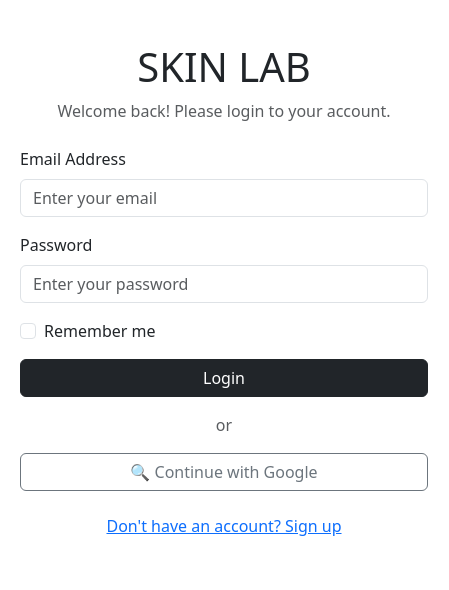
Test: LoginPage › shows an error message when login fails and does not navigate
The width and height of the screenshot is (449, 590).
Type "user@example.com" into the field with placeholder "Enter your email" at (224, 198), box 20,179 -> 428,217
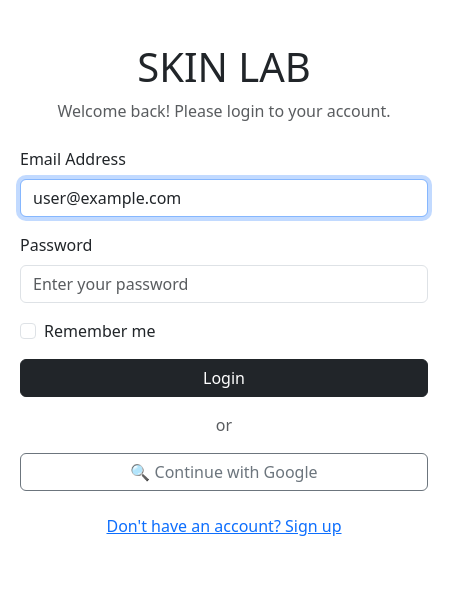
Type "wrong-password" into the password field with placeholder "Enter your password" at (224, 284), box 20,265 -> 428,303
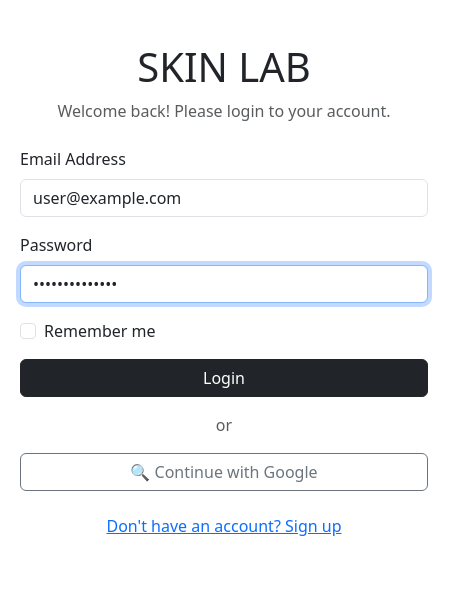
Click the button "Login" at (224, 378), box 20,359 -> 428,397
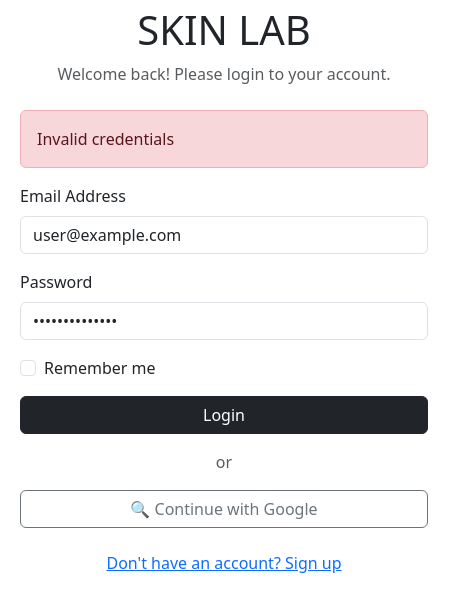
Check: the text "Invalid credentials" is shown, box 20,110 -> 428,168
